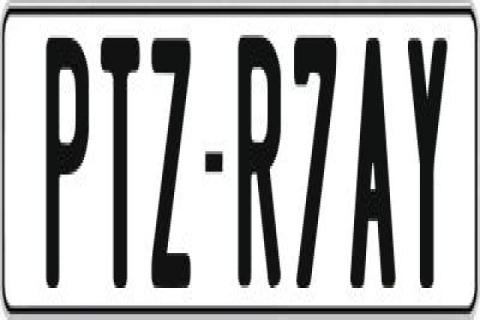0: (294, 32, 338, 296)
A: (347, 38, 395, 306)
P: (44, 35, 92, 291)
R: (236, 29, 284, 282)
T: (100, 29, 144, 279)
Y: (406, 29, 448, 282)
Z: (149, 29, 195, 297)
